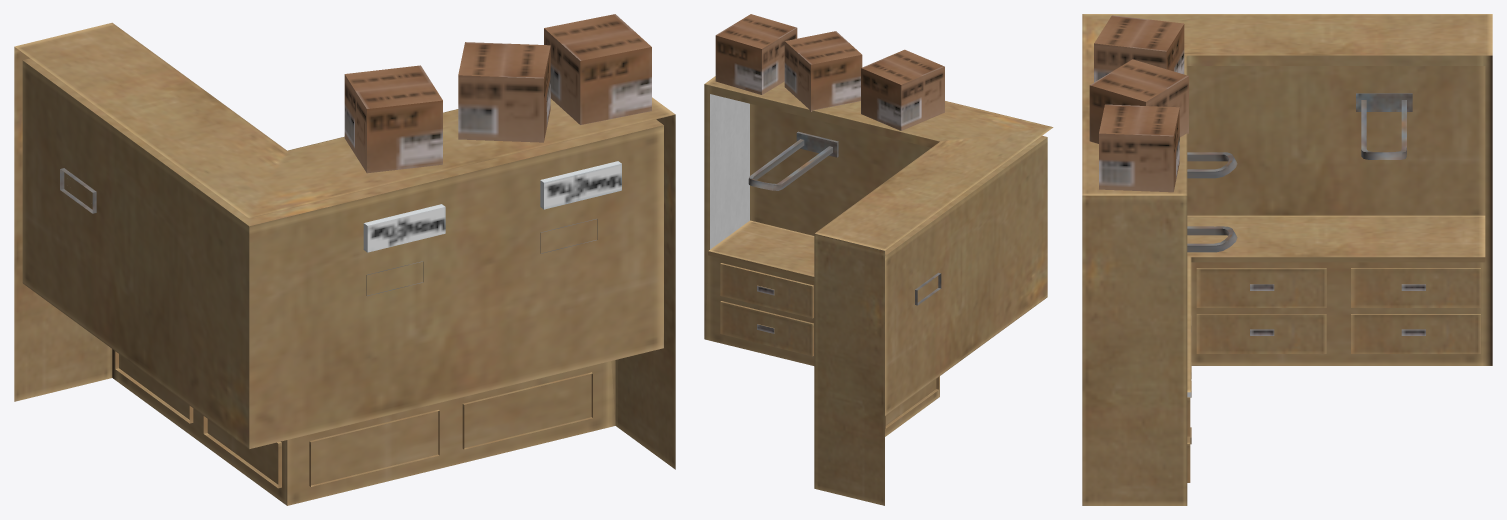
The model's file is corner_closet.FBX.
3 views of the same model, side by side, from view 1: azimuth 30°, elevation 25°; view 2: azimuth 150°, elevation 25°; view 3: azimuth 270°, elevation 25° (orthographic). The views are drawn at different scales.
Visible parts, largest first — view 1: corner_closet; view 2: corner_closet; view 3: corner_closet.
Boxes of the visible parts, x1,y1,x2,y2 form: corner_closet: [14, 14, 675, 505]; corner_closet: [704, 14, 1053, 505]; corner_closet: [1082, 14, 1492, 505].
Size of the model in its own units: 258 by 242 by 246.
Materials: 1 (1 with a texture image).
